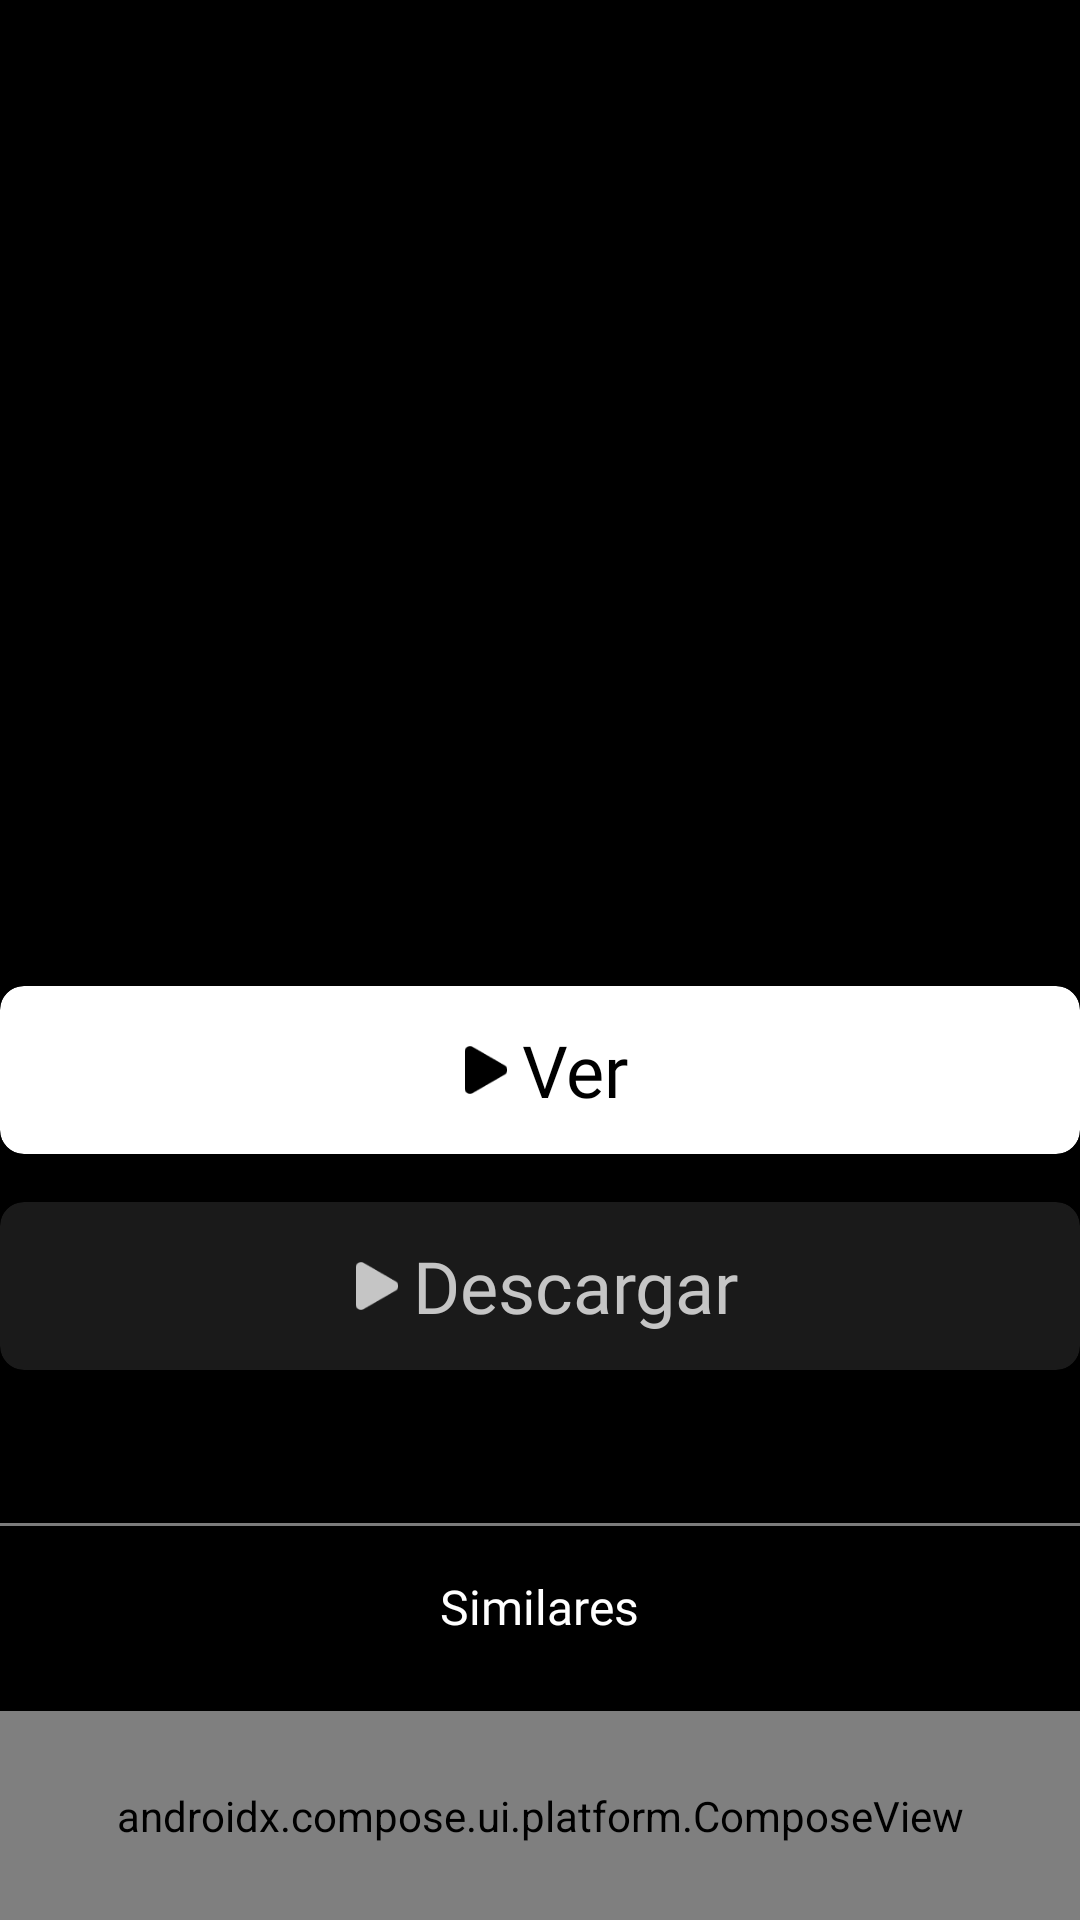

Icon bounding boxes for this 1080*1920 phone screenshot, format (x1, y1, x2, y2):
arrow play: (465, 1046, 507, 1094), (356, 1262, 398, 1310)
